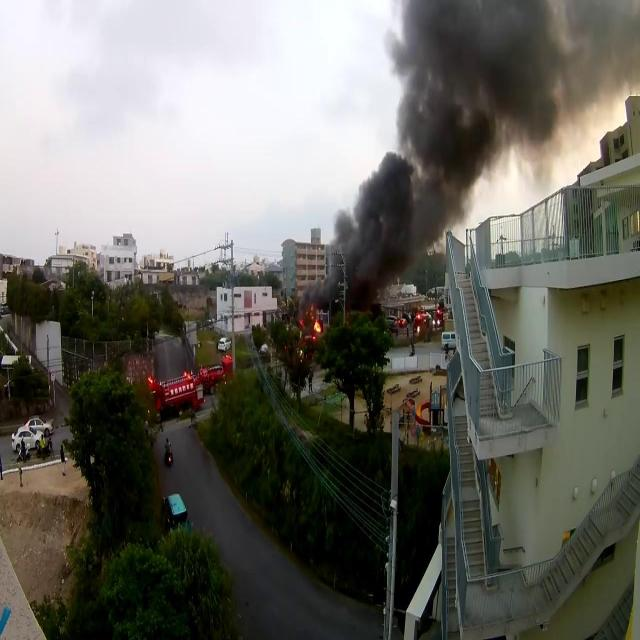Fire: (312, 320, 322, 332)
